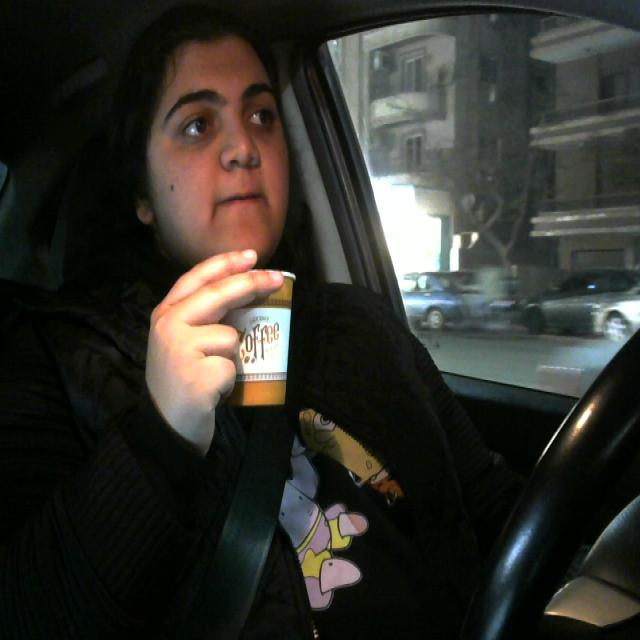drinking: (213, 268, 301, 416)
